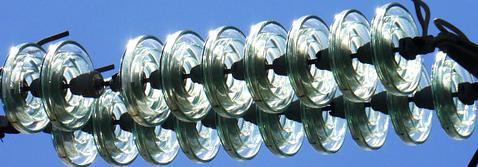gap: (41, 32, 170, 130)
